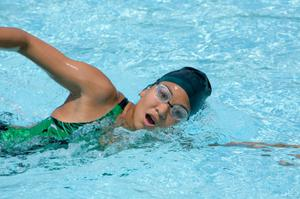human: (0, 26, 236, 160)
